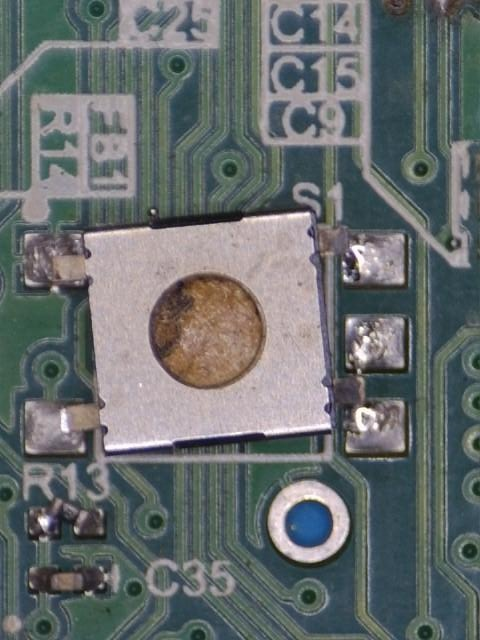pcb_defect: (21, 207, 408, 457), (333, 313, 409, 457), (27, 496, 105, 540)
